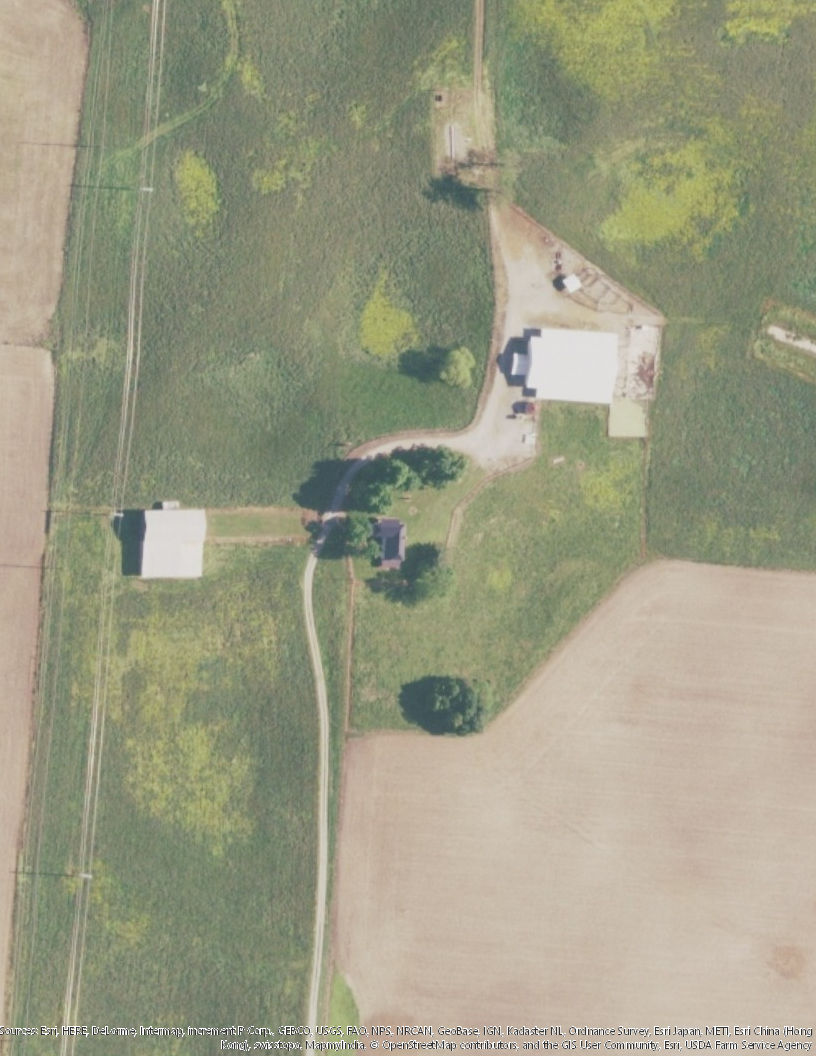cafo: (504, 322, 625, 408)
